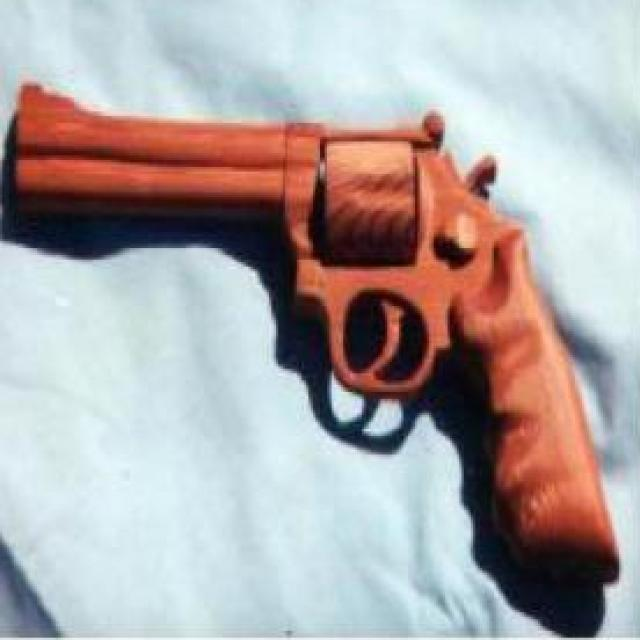pistol: (14, 72, 621, 587)
